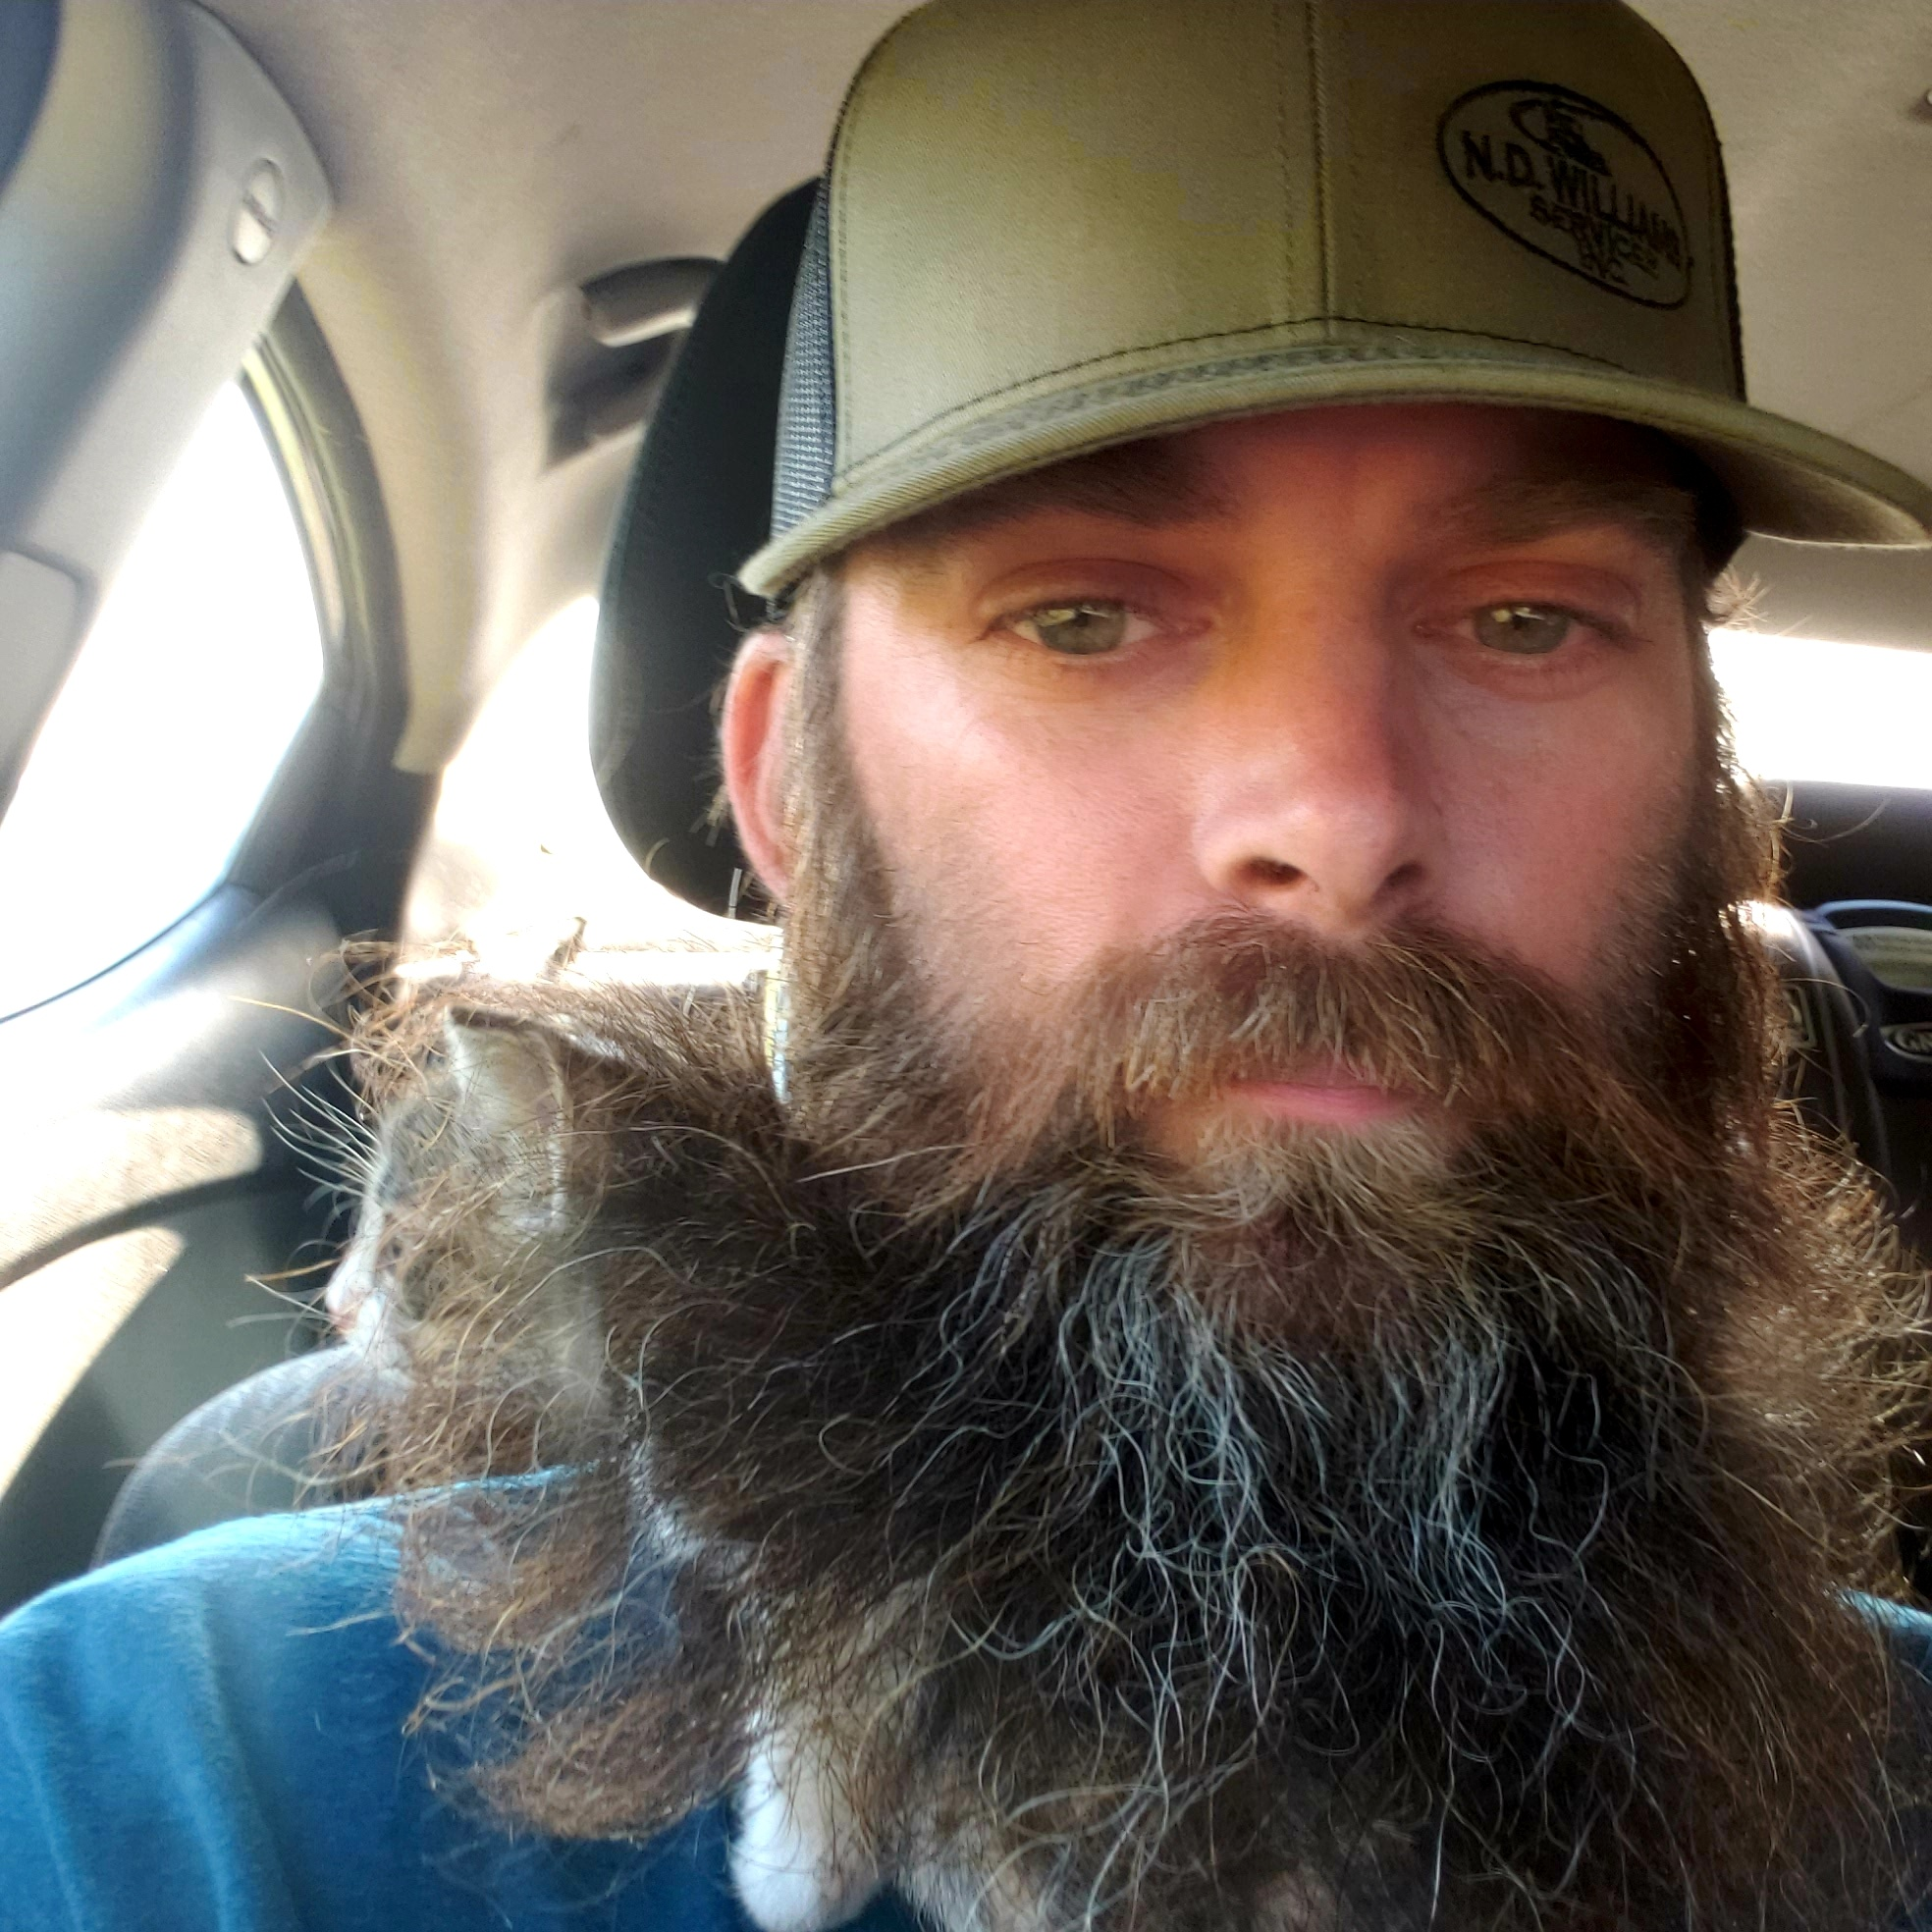no_mask: (784, 766, 1754, 1421)
